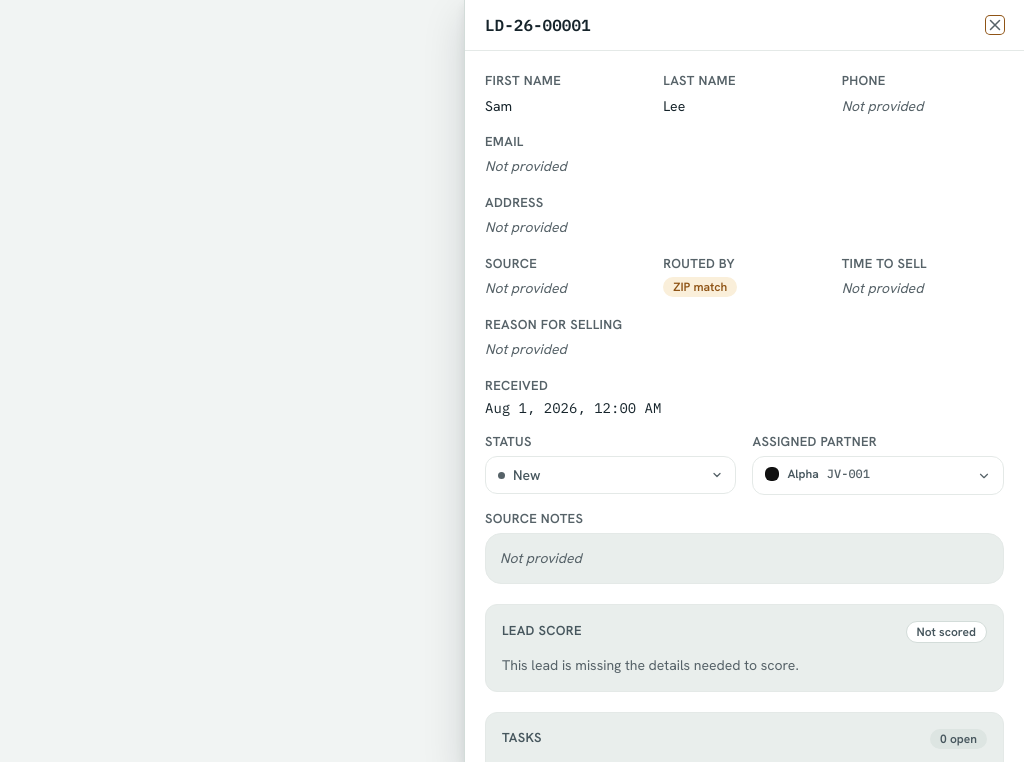
it: N5-06: status and partner are always-visible controls, not form fields › N5-06: the status control offers exactly the record's availableStatuses
The width and height of the screenshot is (1024, 762).
Click the dropdown named "status for": click(611, 475) [485, 456, 736, 494]
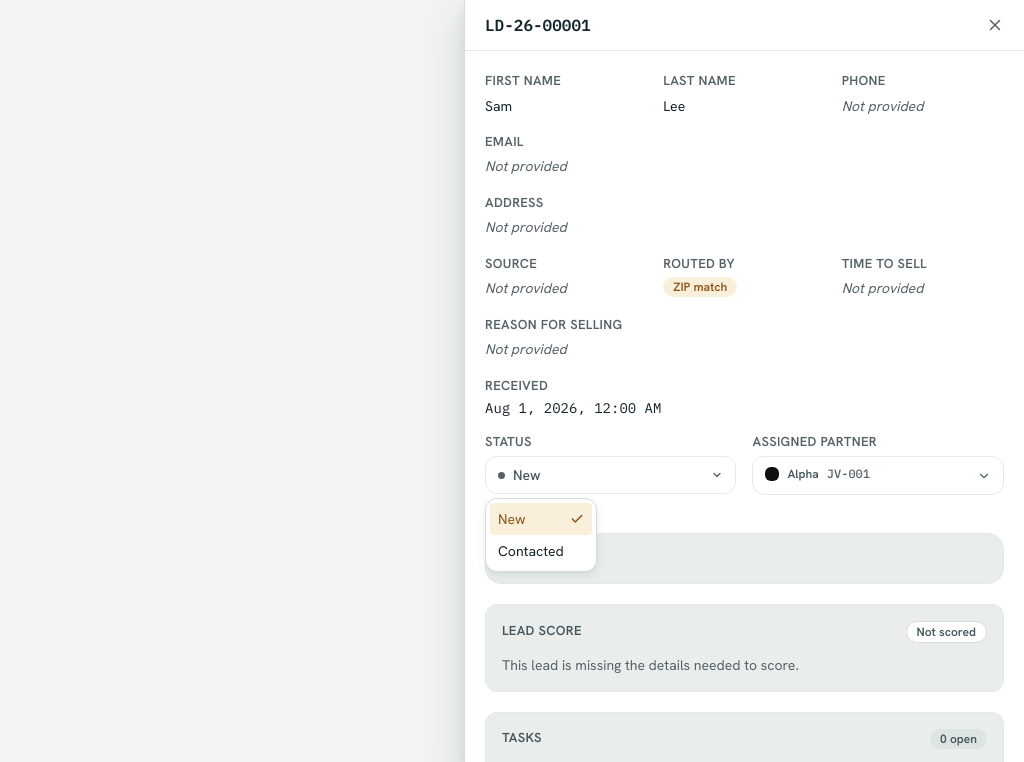
Check: the options read "New", "Contacted", in this order, box [490, 503, 592, 535]; [498, 542, 564, 560]
